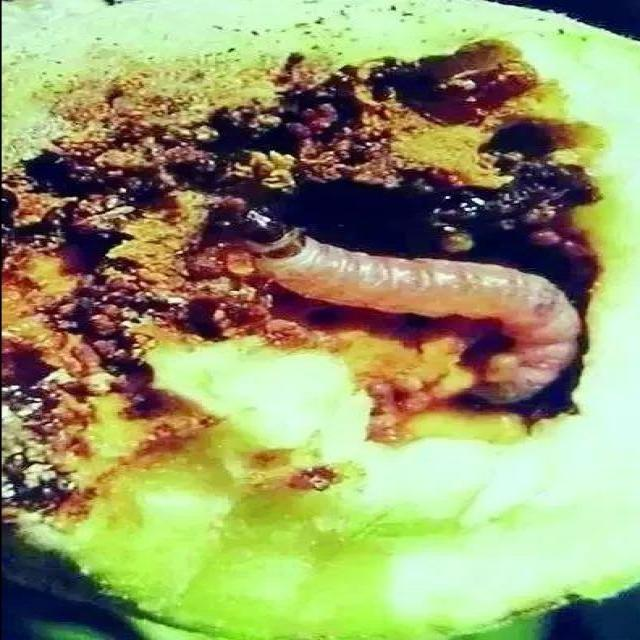peach borer: (218, 202, 589, 407)
